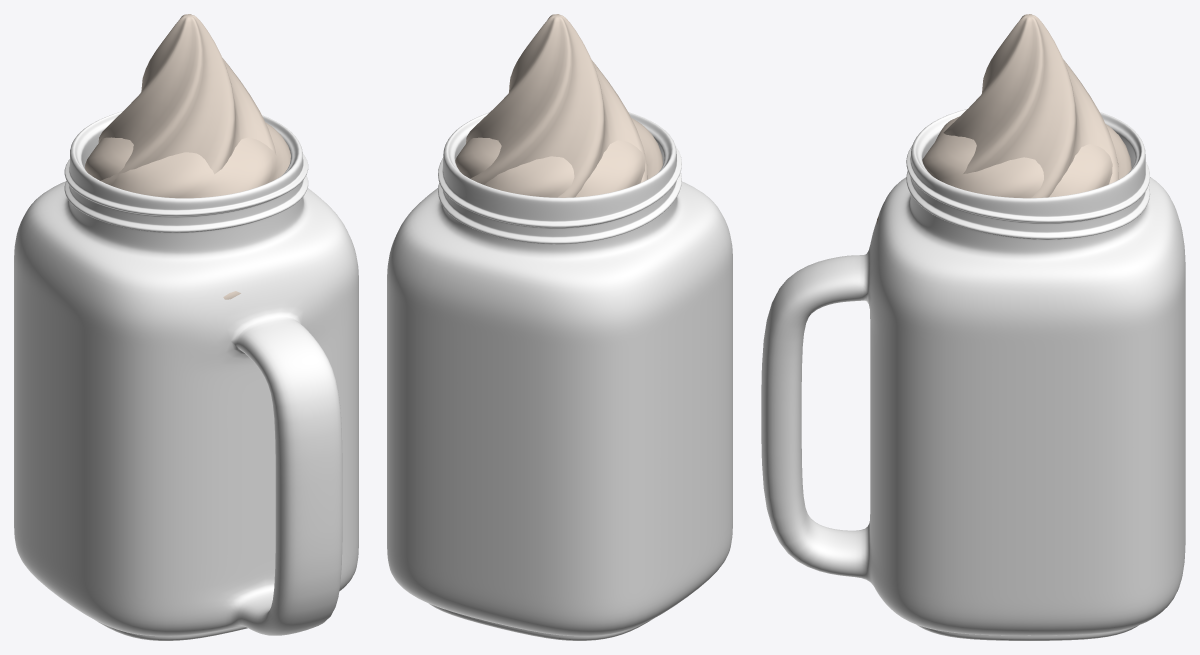
Rendered from Latte_glace.fbx.
The picture shows the model from 3 angles, left to right: view 1: azimuth 30°, elevation 25°; view 2: azimuth 150°, elevation 25°; view 3: azimuth 270°, elevation 25°; orthographic projection.
Parts seen in each view (by area): view 1: verre.001, Cylinder.001, Cylinder; view 2: verre.001, Cylinder.001, Cylinder; view 3: verre.001, Cylinder.001, Cylinder.
Part boxes in pixels (left/top/right/bottom): verre.001: left=14, top=111, right=358, bottom=640; Cylinder.001: left=98, top=14, right=277, bottom=185; Cylinder: left=85, top=122, right=290, bottom=299; verre.001: left=387, top=112, right=732, bottom=640; Cylinder.001: left=466, top=14, right=647, bottom=197; Cylinder: left=455, top=118, right=663, bottom=197; verre.001: left=761, top=109, right=1185, bottom=640; Cylinder.001: left=943, top=14, right=1119, bottom=198; Cylinder: left=877, top=116, right=1131, bottom=224.
Bounding box in the file's own units: 114 × 229 × 153.
